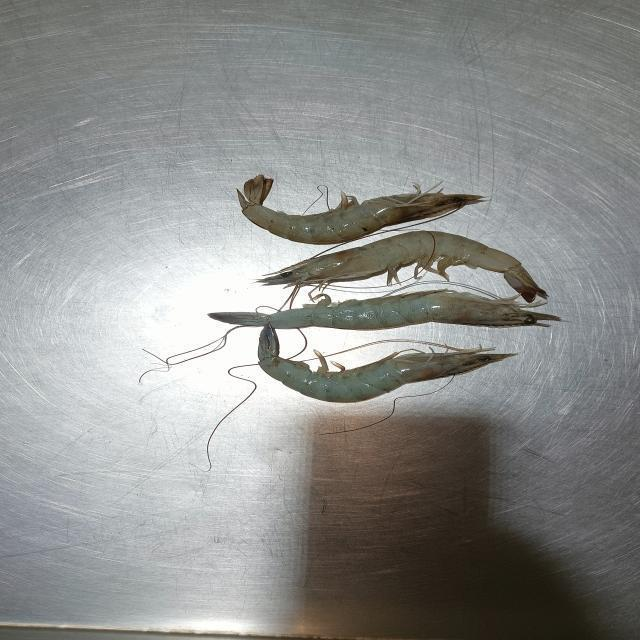shrimp: (259, 326, 507, 399), (238, 175, 483, 243), (256, 232, 535, 288), (208, 289, 560, 330)
